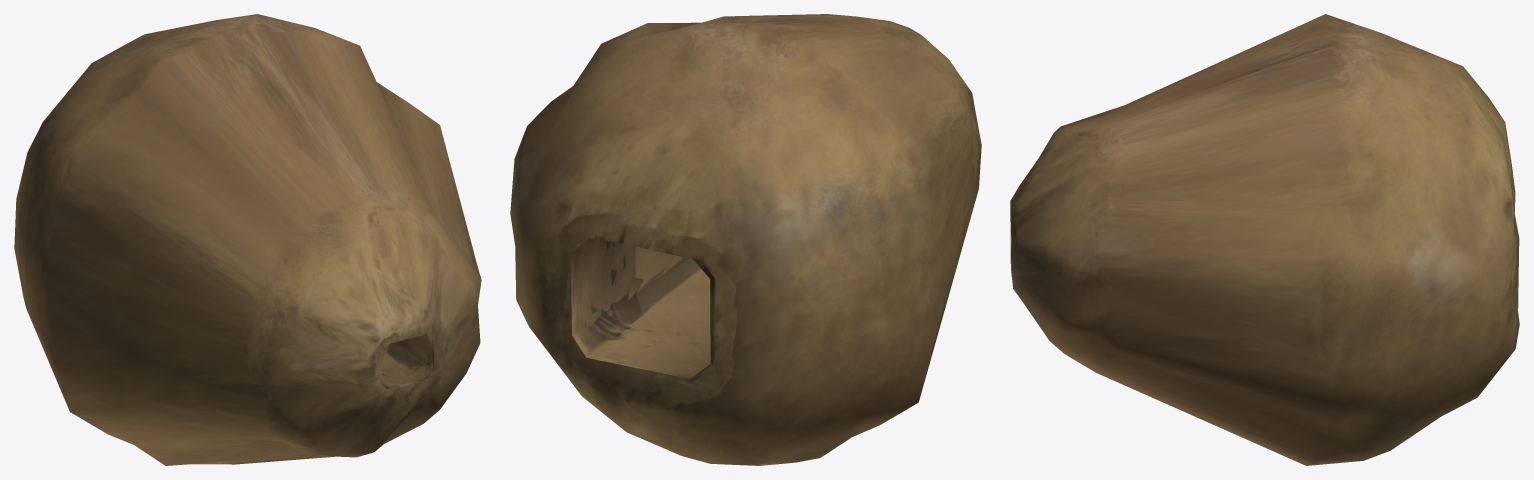
Rendered from asteroid_big_bulb.glb.
3 views of the same model, side by side, from view 1: azimuth 30°, elevation 25°; view 2: azimuth 150°, elevation 25°; view 3: azimuth 270°, elevation 25° (orthographic). The views are drawn at different scales.
Parts seen in each view (by area): view 1: Meshy_AI_Asteroid_Passage_1216214317_texture; view 2: Meshy_AI_Asteroid_Passage_1216214317_texture; view 3: Meshy_AI_Asteroid_Passage_1216214317_texture.
Boxes of the visible parts, x1=… form: Meshy_AI_Asteroid_Passage_1216214317_texture: x1=14, y1=14, x2=481, y2=465; Meshy_AI_Asteroid_Passage_1216214317_texture: x1=510, y1=14, x2=981, y2=465; Meshy_AI_Asteroid_Passage_1216214317_texture: x1=1010, y1=14, x2=1519, y2=465.
Size of the model in its own units: 5.08 by 5.22 by 5.94.
Materials: 1 (1 with a texture image).
